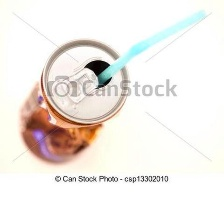can: (12, 31, 142, 167)
drinking_straw: (95, 8, 214, 96)
